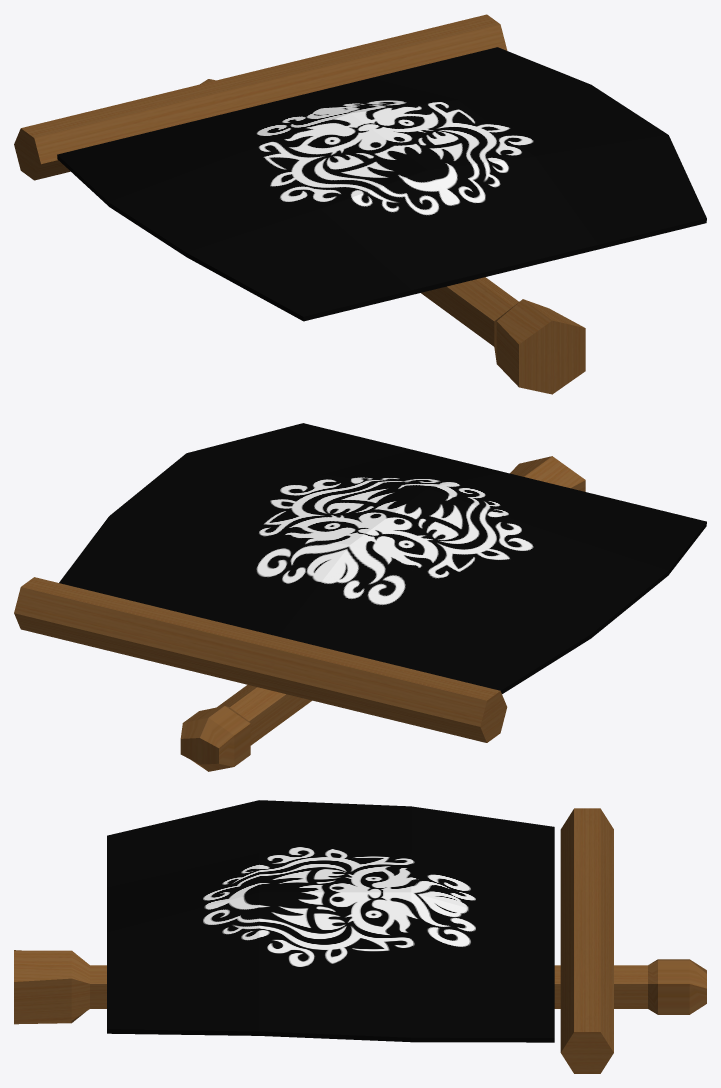
File: sail_a_1.fbx
3 renders of one model, top to bottom at view 1: azimuth 30°, elevation 25°; view 2: azimuth 150°, elevation 25°; view 3: azimuth 270°, elevation 25°, orthographic.
Visible parts, largest first — view 1: Cube.224; view 2: Cube.224; view 3: Cube.224.
Part boxes in pixels (box(x1,y1,x2,y2)): Cube.224: box(14, 14, 706, 394); Cube.224: box(14, 423, 706, 771); Cube.224: box(14, 800, 706, 1073).
Bounding box in the file's own units: 72.42 × 19.1 × 91.68.
